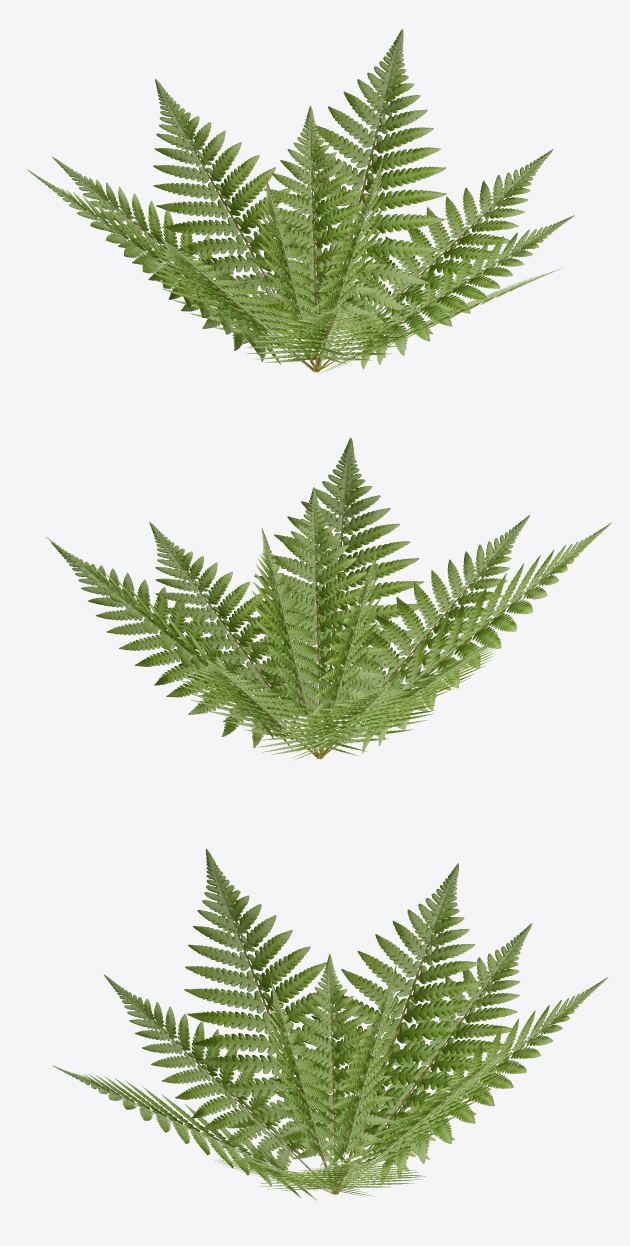
Rendered from fern_01.gltf.
The picture shows the model from 3 angles, top to bottom: view 1: azimuth 30°, elevation 25°; view 2: azimuth 150°, elevation 25°; view 3: azimuth 270°, elevation 25°; orthographic projection. The views are drawn at different scales.
Parts seen in each view (by area): view 1: fern_01; view 2: fern_01; view 3: fern_01.
Part boxes in pixels (x1,y1,x2,y2): fern_01: (26, 29, 574, 374); fern_01: (45, 438, 611, 760); fern_01: (52, 849, 608, 1200).
Bounding box in the file's own units: 1.2 × 0.5453 × 1.2.
Materials: 1 (1 with a texture image).
